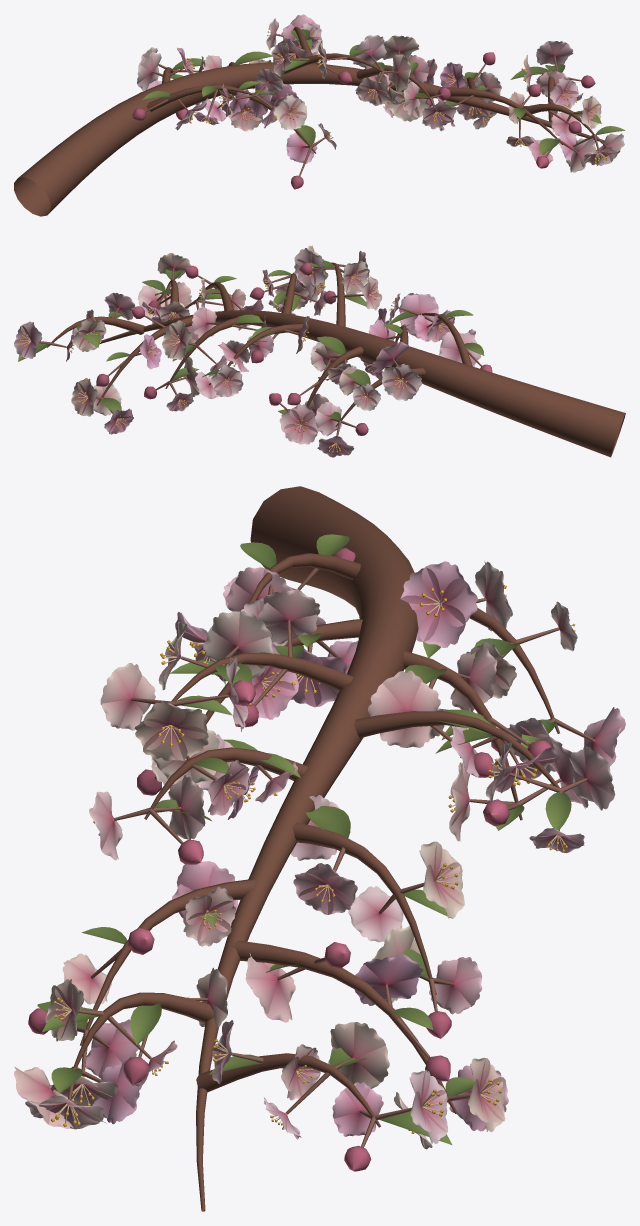
File: cherry-bough.glb
3 views of the same model, one above another, from view 1: azimuth 30°, elevation 25°; view 2: azimuth 150°, elevation 25°; view 3: azimuth 270°, elevation 25° (orthographic). The views are drawn at different scales.
Parts seen in each view (by area): view 1: Flowering cherry bough; view 2: Flowering cherry bough; view 3: Flowering cherry bough.
Part boxes in pixels (x1,y1,x2,y2): Flowering cherry bough: (14,14,625,216); Flowering cherry bough: (14,245,625,457); Flowering cherry bough: (14,486,625,1211).
Bounding box in the file's own units: 5.92 × 1.67 × 2.69.
